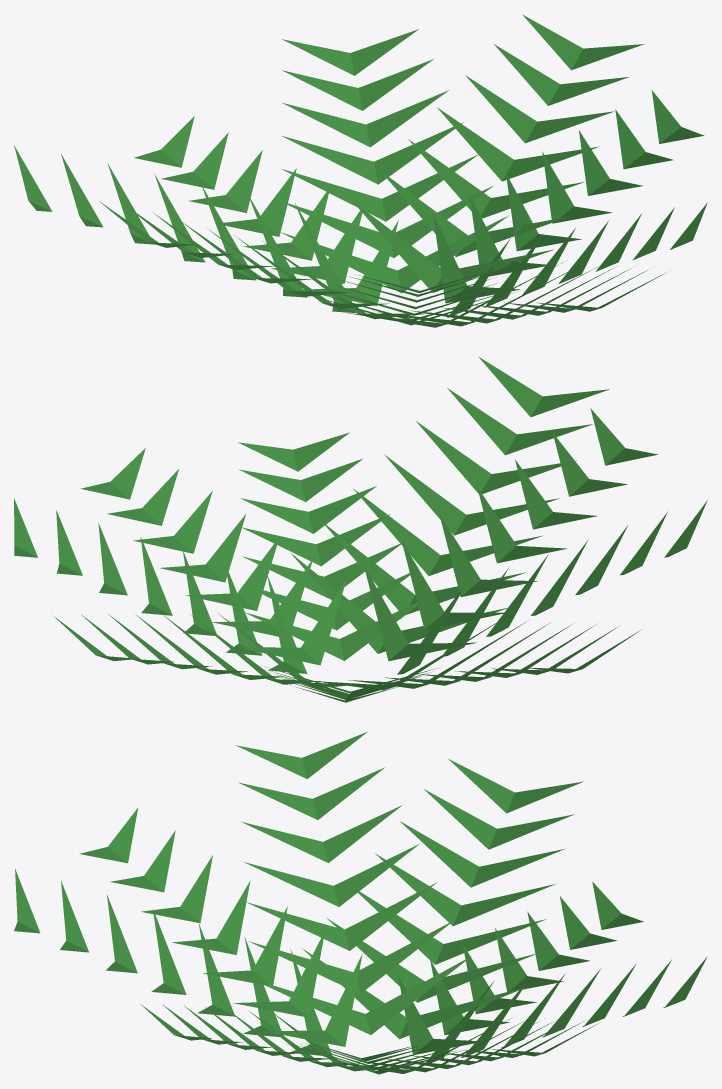
The model's file is les-kapradi.glb.
3 renders of one model, top to bottom at view 1: azimuth 30°, elevation 25°; view 2: azimuth 150°, elevation 25°; view 3: azimuth 270°, elevation 25°, orthographic. The views are drawn at different scales.
Visible parts, largest first — view 1: kapradi; view 2: kapradi; view 3: kapradi.
Boxes of the visible parts, x1,y1,x2,y2 form: kapradi: (14, 14, 707, 327); kapradi: (14, 356, 707, 702); kapradi: (14, 731, 707, 1074).
Bounding box in the file's own units: 1.03 × 0.3104 × 1.05.
